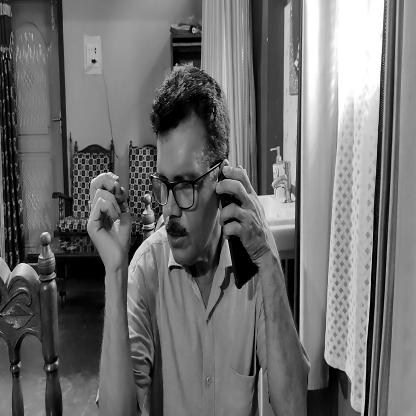Distracted: (145, 69, 230, 277)
